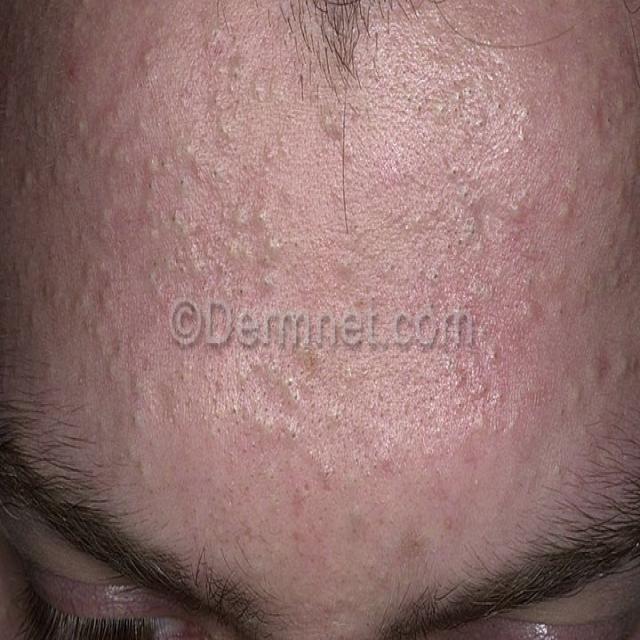Acne: (152, 202, 190, 242), (450, 76, 492, 108), (616, 344, 640, 388), (520, 292, 544, 326), (565, 376, 587, 412), (504, 195, 527, 229), (591, 342, 612, 379), (513, 100, 537, 132), (554, 196, 576, 229), (612, 84, 630, 124), (136, 42, 158, 74), (263, 230, 285, 262), (82, 134, 107, 162), (212, 114, 235, 144), (226, 54, 248, 84), (246, 74, 266, 106), (334, 251, 356, 279), (230, 204, 250, 234), (17, 162, 35, 195), (142, 151, 162, 180), (489, 380, 506, 412), (252, 204, 272, 230), (441, 510, 456, 536)
